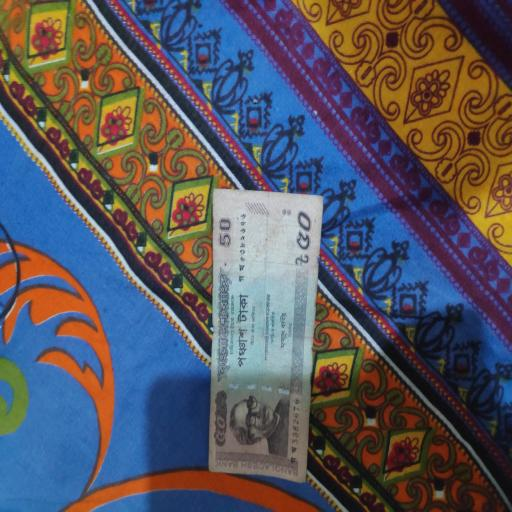50taka: (209, 189, 325, 485)
